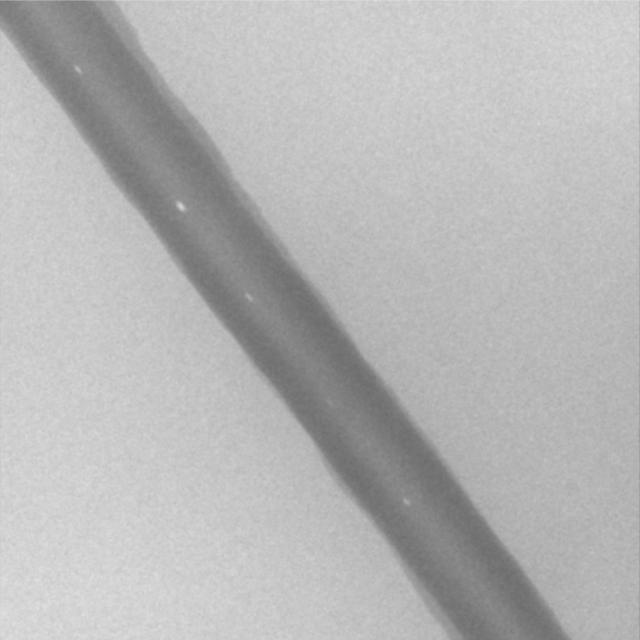air hole: (174, 200, 186, 213), (401, 496, 412, 509), (71, 63, 82, 75), (244, 290, 253, 302)
